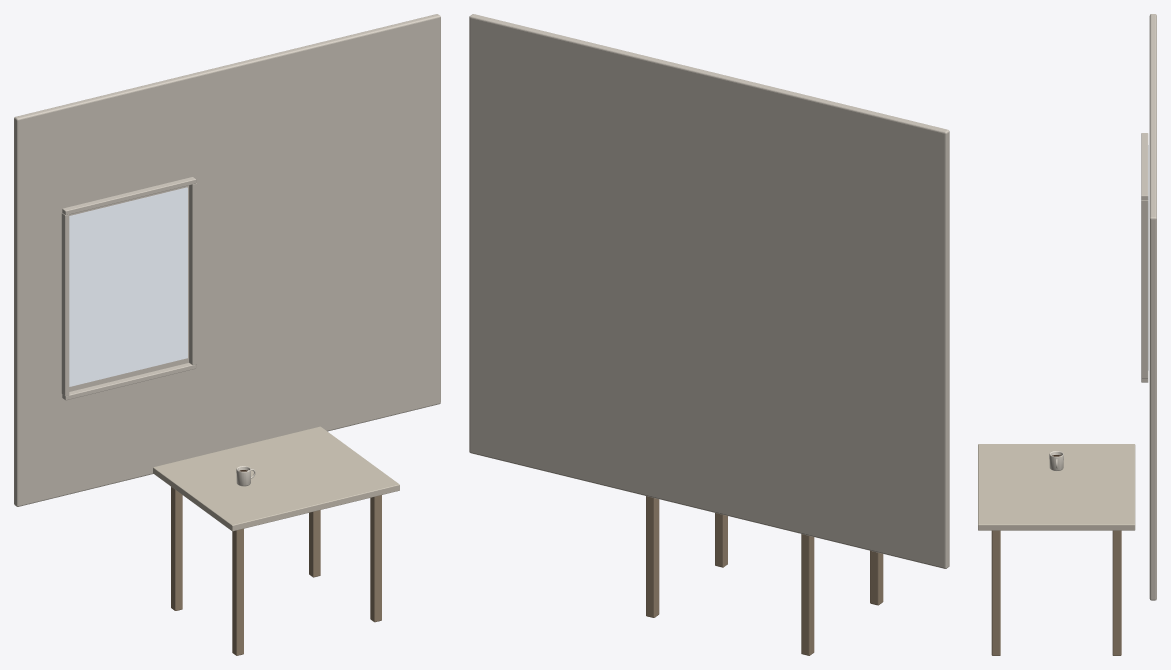
The model's file is ipad-study-environment.glb.
The picture shows the model from 3 angles, left to right: view 1: azimuth 30°, elevation 25°; view 2: azimuth 150°, elevation 25°; view 3: azimuth 270°, elevation 25°; orthographic projection. The views are drawn at different scales.
Visible parts, largest first — view 1: RoomBackWall, WindowLightPanel, TableTop, WindowFrameUprightLeft, TableLeg-SE, TableLeg-SW, WindowFrameUprightRight, TableLeg-NW, WindowFrameRailUpper, WindowFrameRailLower, TableLeg-NE; view 2: RoomBackWall, TableLeg-NW, TableLeg-NE, TableLeg-SW, TableLeg-SE; view 3: TableTop, RoomBackWall, WindowFrameUprightRight, TableLeg-NE, TableLeg-SE, WindowFrameRailUpper.
Part boxes in pixels (x1,y1,x2,y2): RoomBackWall: (14,14,440,506); WindowLightPanel: (69,187,187,386); TableTop: (153,426,399,531); WindowFrameUprightLeft: (61,213,69,396); TableLeg-SE: (370,495,381,622); TableLeg-SW: (232,529,243,655); WindowFrameUprightRight: (189,183,196,364); TableLeg-NW: (171,487,182,610); WindowFrameRailUpper: (62,177,196,215); WindowFrameRailLower: (62,363,196,400); TableLeg-NE: (309,510,320,577); RoomBackWall: (469,14,949,568); TableLeg-NW: (801,534,814,655); TableLeg-NE: (646,496,659,617); TableLeg-SW: (870,550,883,605); TableLeg-SE: (715,513,727,567); TableTop: (978,444,1135,530); RoomBackWall: (1149,14,1156,600); WindowFrameUprightRight: (1141,200,1148,378); TableLeg-NE: (1112,530,1121,655); TableLeg-SE: (991,530,1000,655); WindowFrameRailUpper: (1141,133,1148,199).
Bounding box in the file's own units: 2.4 × 2.77 × 0.8875.
